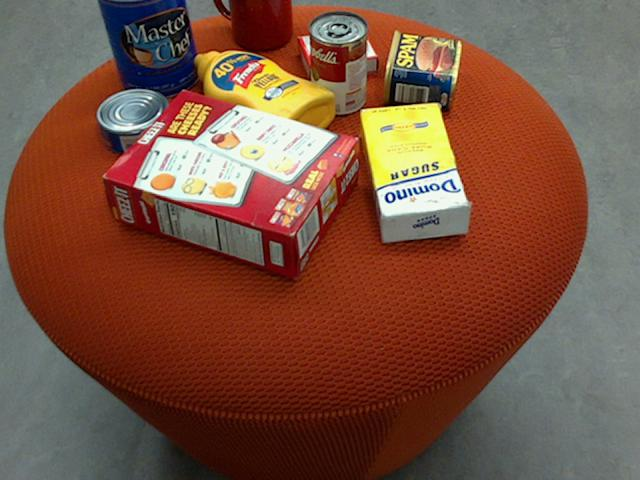cracker_box: (101, 87, 358, 276)
gelatin_box: (297, 26, 378, 84)
large_marker: (251, 0, 278, 42)
master_chef_can: (96, 0, 199, 98)
mug: (214, 0, 291, 49)
mustard_bottle: (193, 51, 334, 150)
potted_meat_can: (381, 30, 459, 109)
sugar_box: (357, 103, 471, 241)
tomato_soup_can: (308, 10, 367, 114)
tuna_fish_can: (94, 88, 173, 154)
